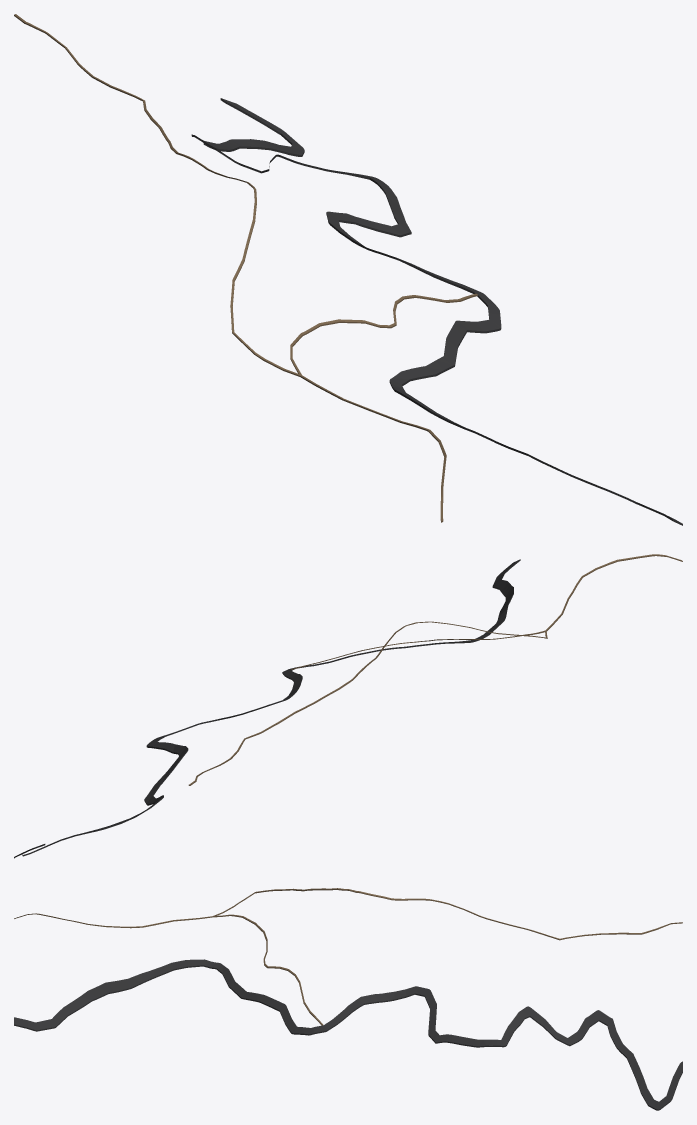
The picture shows the model from 3 angles, top to bottom: view 1: azimuth 30°, elevation 25°; view 2: azimuth 150°, elevation 25°; view 3: azimuth 270°, elevation 25°; orthographic projection. The views are drawn at different scales.
Size of the model in its own units: 246 by 127 by 583.
